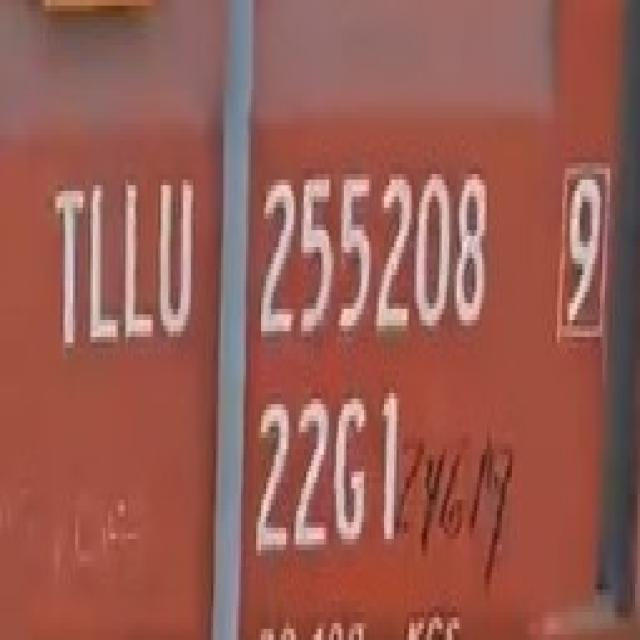dv: (549, 149, 612, 357)
owner: (43, 161, 200, 357)
serial: (248, 161, 498, 346)
size: (248, 373, 415, 576)
